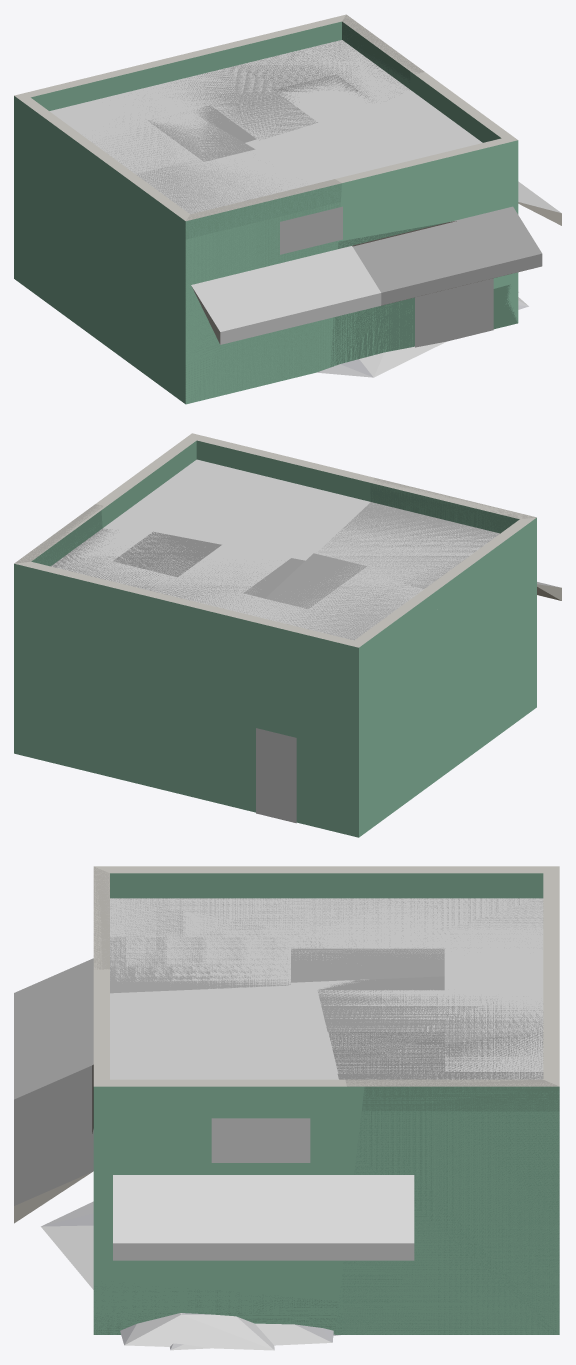
File: bld_shop_a.glb
3 renders of one model, top to bottom at view 1: azimuth 30°, elevation 25°; view 2: azimuth 150°, elevation 25°; view 3: azimuth 270°, elevation 25°, orthographic. The views are drawn at different scales.
Visible parts, largest first — view 1: damaged, intact, chunk_00, chunk_03, chunk_01, chunk_02, chunk_04, chunk_05, rubble; view 2: damaged, intact, chunk_03, chunk_04, chunk_00, chunk_05, chunk_01, chunk_02; view 3: damaged, intact, chunk_05, chunk_02, chunk_01, chunk_00, chunk_03, chunk_04, rubble.
Part boxes in pixels (x1=…): damaged: x1=14, y1=14, x2=542, y2=403; intact: x1=96, y1=15, x2=561, y2=403; chunk_00: x1=106, y1=154, x2=312, y2=404; chunk_03: x1=14, y1=87, x2=198, y2=345; chunk_01: x1=239, y1=118, x2=458, y2=371; chunk_02: x1=384, y1=103, x2=518, y2=322; chunk_04: x1=148, y1=52, x2=326, y2=142; chunk_05: x1=293, y1=40, x2=427, y2=109; rubble: x1=317, y1=292, x2=528, y2=377; damaged: x1=14, y1=478, x2=561, y2=836; intact: x1=16, y1=433, x2=532, y2=640; chunk_03: x1=226, y1=577, x2=454, y2=837; chunk_04: x1=75, y1=566, x2=270, y2=805; chunk_00: x1=454, y1=536, x2=536, y2=767; chunk_05: x1=14, y1=515, x2=148, y2=768; chunk_01: x1=182, y1=472, x2=385, y2=519; chunk_02: x1=124, y1=459, x2=246, y2=521; damaged: x1=14, y1=866, x2=559, y2=1334; intact: x1=14, y1=867, x2=559, y2=1334; chunk_05: x1=309, y1=1072, x2=559, y2=1334; chunk_02: x1=93, y1=1072, x2=309, y2=1334; chunk_01: x1=110, y1=975, x2=309, y2=1071; chunk_00: x1=110, y1=898, x2=309, y2=975; chunk_03: x1=309, y1=898, x2=543, y2=975; chunk_04: x1=309, y1=975, x2=543, y2=1071; rubble: x1=41, y1=1201, x2=340, y2=1350.
Bounding box in the file's own units: 10.95 × 5 × 9.99.
